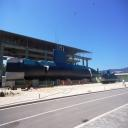submarine: (7, 51, 102, 83), (100, 71, 120, 87)
